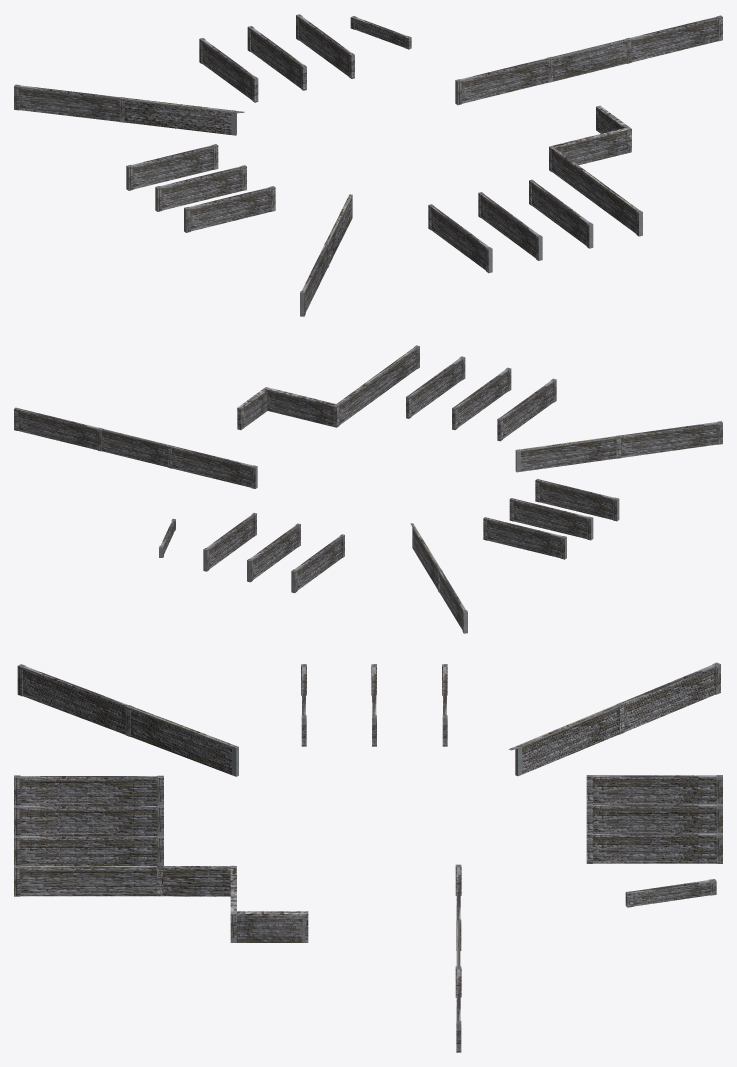
Rendered from paredes2.obj.
3 views of the same model, one above another, from view 1: azimuth 30°, elevation 25°; view 2: azimuth 150°, elevation 25°; view 3: azimuth 270°, elevation 25° (orthographic). The views are drawn at different scales.
Parts seen in each view (by area): view 1: Cube.012, Cube.009, Cube.010, Cube.011, Cube.003, Cube.005, Cube.004, Cube.007, Cube.006, Cube.008, Cube.013, Cube.001 (+3 smaller); view 2: Cube.013, Cube.009, Cube.010, Cube.011, Cube.005, Cube.004, Cube.003, Cube.012, Cube.008, Cube.006, Cube.007, Cube (+2 smaller); view 3: Cube.009, Cube.013, Cube.012, Cube.007, Cube.006, Cube.008, Cube, Cube.001, Cube.002, Cube.014, Cube.010.
Part boxes in pixels (<box>): Cube.012: <box>14,84,244,135</box>; Cube.009: <box>549,105,642,236</box>; Cube.010: <box>552,15,722,81</box>; Cube.011: <box>455,56,553,105</box>; Cube.003: <box>126,144,218,190</box>; Cube.005: <box>184,186,275,232</box>; Cube.004: <box>155,165,246,211</box>; Cube.007: <box>478,192,542,260</box>; Cube.006: <box>428,204,492,273</box>; Cube.008: <box>529,179,593,248</box>; Cube.013: <box>300,194,352,316</box>; Cube.001: <box>247,26,306,90</box>; Cube.013: <box>515,421,722,472</box>; Cube.009: <box>237,345,419,429</box>; Cube.010: <box>14,407,169,467</box>; Cube.011: <box>168,445,257,488</box>; Cube.005: <box>535,479,619,521</box>; Cube.004: <box>509,498,593,540</box>; Cube.003: <box>483,517,566,559</box>; Cube.012: <box>410,523,467,633</box>; Cube.008: <box>406,356,465,418</box>; Cube.006: <box>497,378,556,441</box>; Cube.007: <box>452,367,511,429</box>; Cube: <box>203,513,256,571</box>; Cube.009: <box>14,865,308,942</box>; Cube.013: <box>17,664,238,776</box>; Cube.012: <box>508,662,720,776</box>; Cube.007: <box>14,805,163,836</box>; Cube.006: <box>14,775,163,805</box>; Cube.008: <box>14,835,163,865</box>; Cube: <box>586,833,722,863</box>; Cube.001: <box>586,804,722,833</box>; Cube.002: <box>586,775,722,804</box>; Cube.014: <box>625,879,716,907</box>; Cube.010: <box>455,922,461,1052</box>.
Size of the model in its own units: 5543 by 206 by 4596.
Materials: 15 (15 with a texture image).
